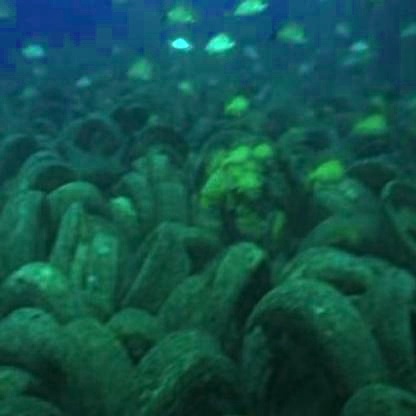tire: (211, 236, 364, 416), (42, 109, 141, 206), (139, 126, 189, 188)
